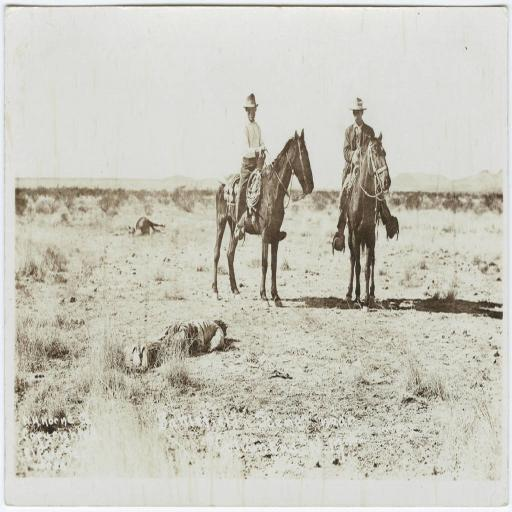horse: (212, 125, 314, 309), (342, 132, 392, 310)
